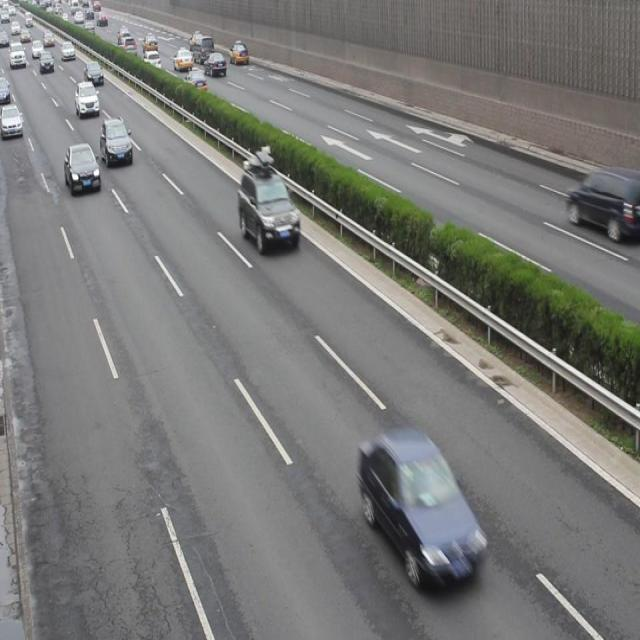car: (359, 425, 482, 584), (237, 151, 298, 251), (565, 163, 640, 241), (64, 144, 101, 197), (99, 115, 134, 169), (75, 80, 100, 118), (1, 103, 24, 139), (182, 69, 207, 95)
